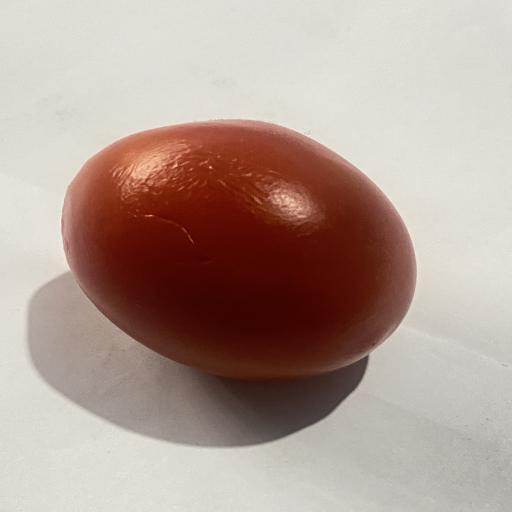overipe: (62, 120, 416, 380)
